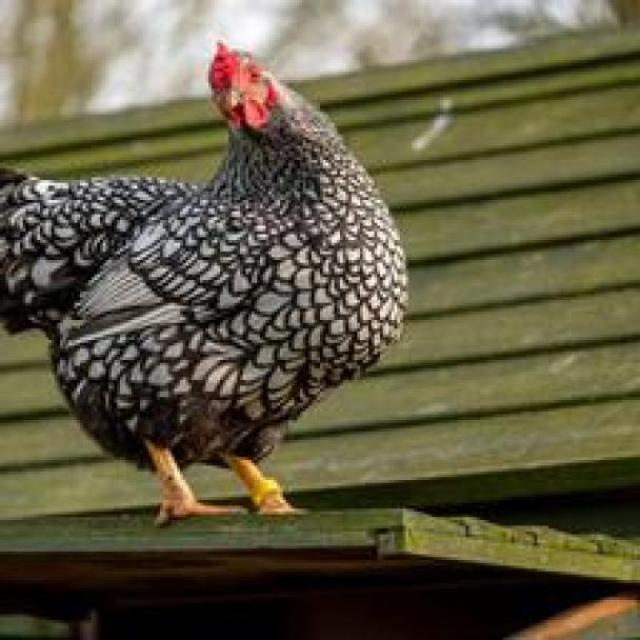Chicken: (0, 46, 417, 528)
